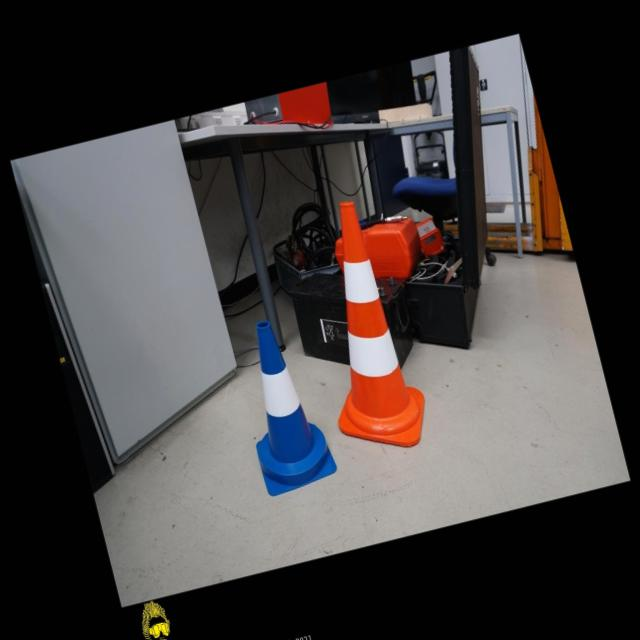blue_cone: (226, 312, 339, 496)
large_orange_cone: (286, 194, 434, 462)
